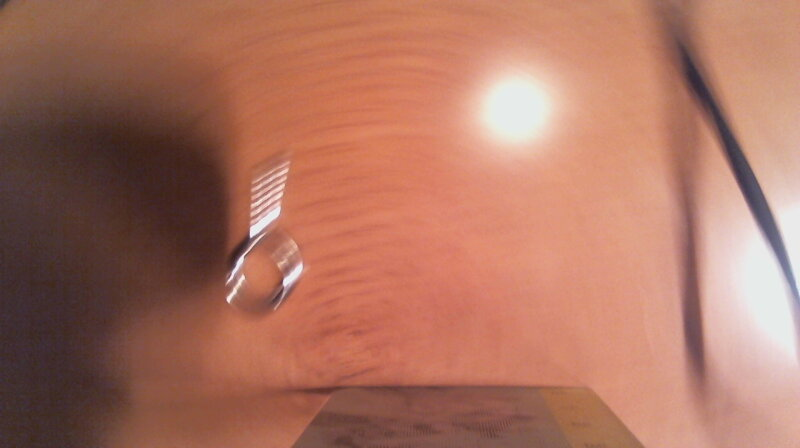O001: (209, 152, 311, 324)
